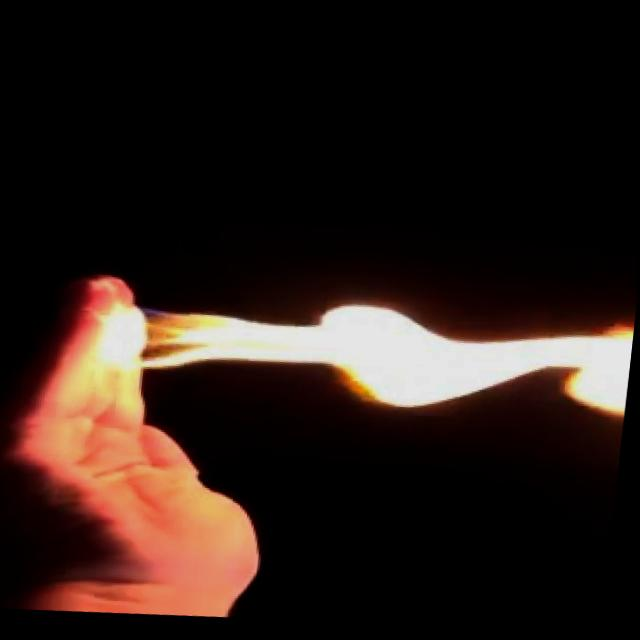Fire: (119, 270, 634, 469)
